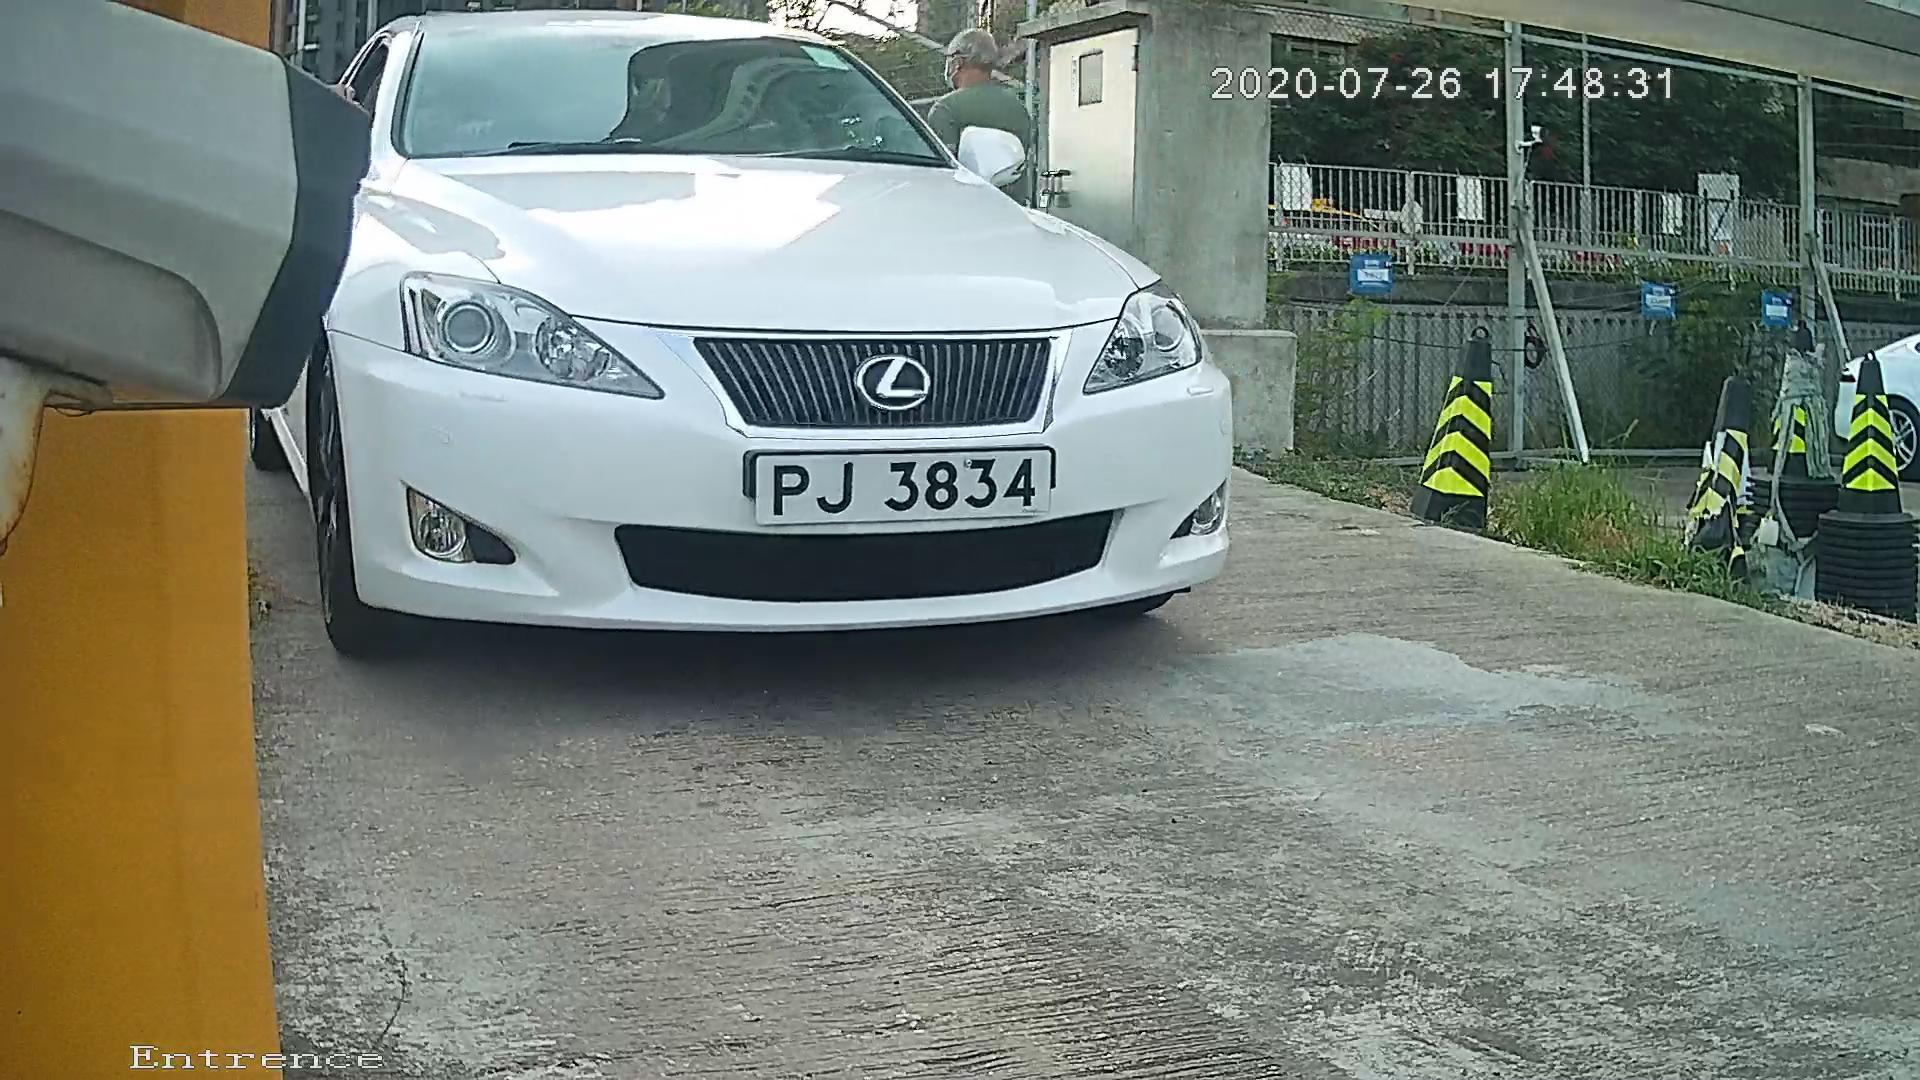privatecar: (241, 1, 1458, 680)
